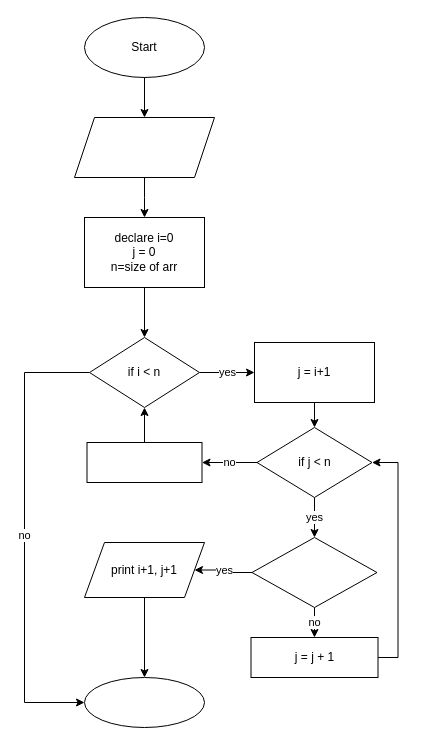
The diagram is 424 pixels wide and 745 high, and some of its shapes have lost their labels. Each missing label, with the box of its shape:
i = i + 1: (86, 442, 202, 482)
if arr[i] + arr[j] == m: (251, 536, 377, 608)
read input m, array arr: (74, 116, 214, 178)
stop: (84, 676, 204, 728)
